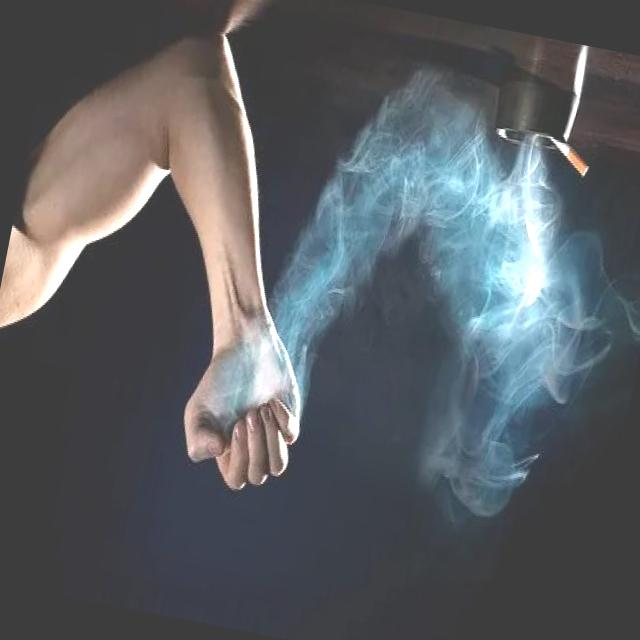cigarette: (530, 126, 596, 184)
